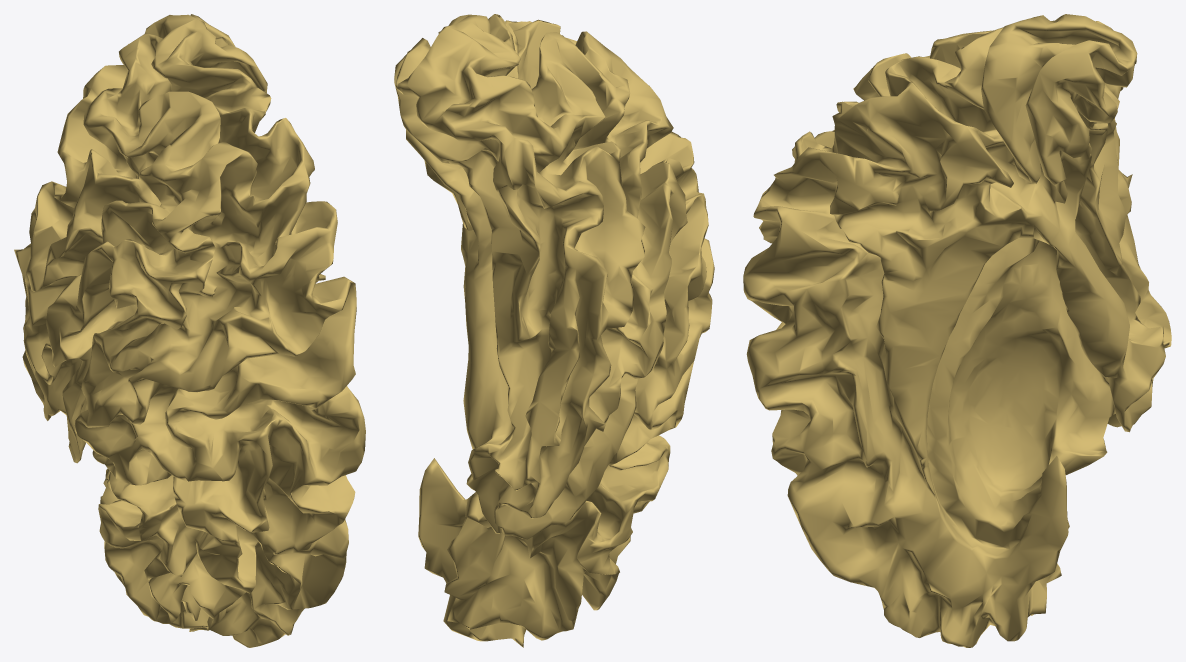
3 views of the same model, side by side, from view 1: azimuth 30°, elevation 25°; view 2: azimuth 150°, elevation 25°; view 3: azimuth 270°, elevation 25° (orthographic). The views are drawn at different scales.
Parts seen in each view (by area): view 1: 右侧端脑白质; view 2: 右侧端脑白质; view 3: 右侧端脑白质.
Boxes of the visible parts, x1,y1,x2,y2 form: 右侧端脑白质: (14,14,365,647); 右侧端脑白质: (394,14,714,647); 右侧端脑白质: (743,14,1171,647).
Size of the model in its own units: 0.0935 by 0.2577 by 0.161.
